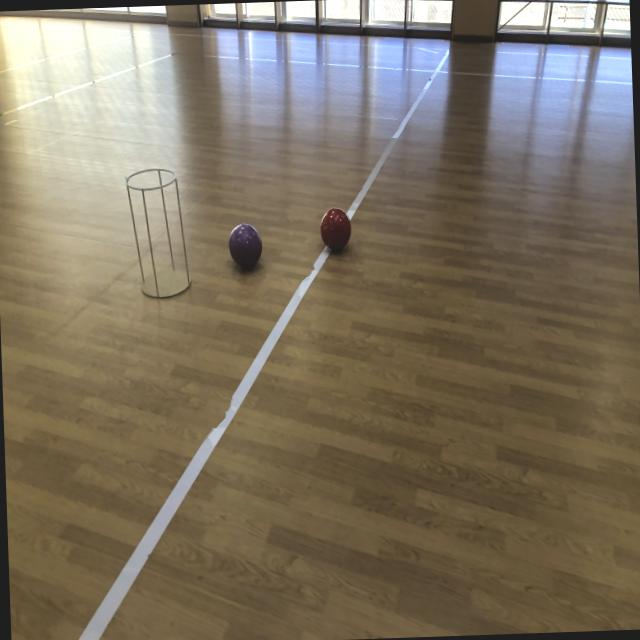purple_ball: (228, 224, 262, 270)
red_ball: (321, 206, 352, 252)
